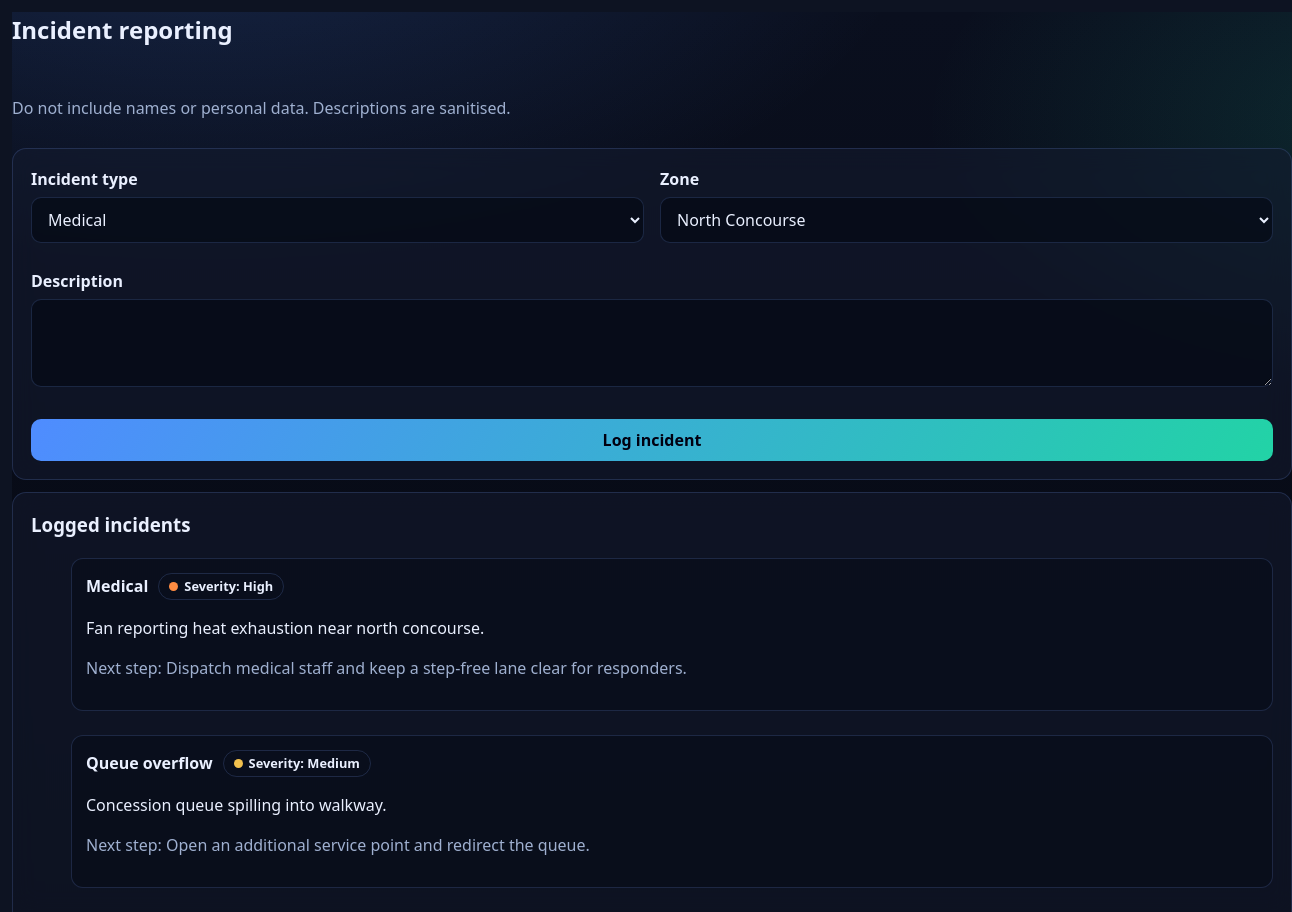
Incidents › logs a sanitised incident with severity and next step
The width and height of the screenshot is (1292, 912).
Select "Medical" in the dropdown labelled "Incident type" at [338, 220], box x1=31 y1=197 x2=644 y2=243
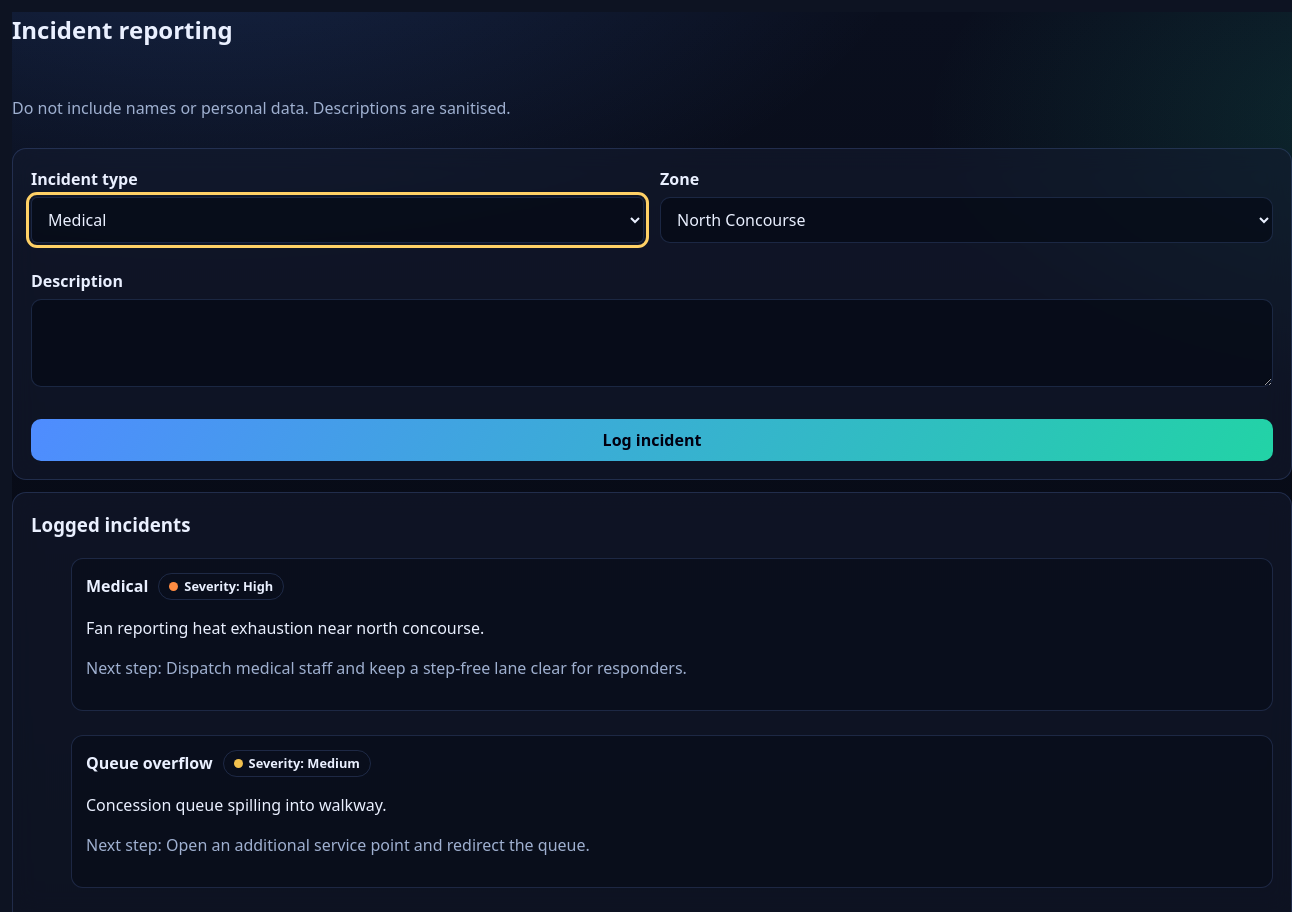
Type "Fan feeling faint <script>" into the text box labelled "Description" at [652, 343], box x1=31 y1=299 x2=1273 y2=387
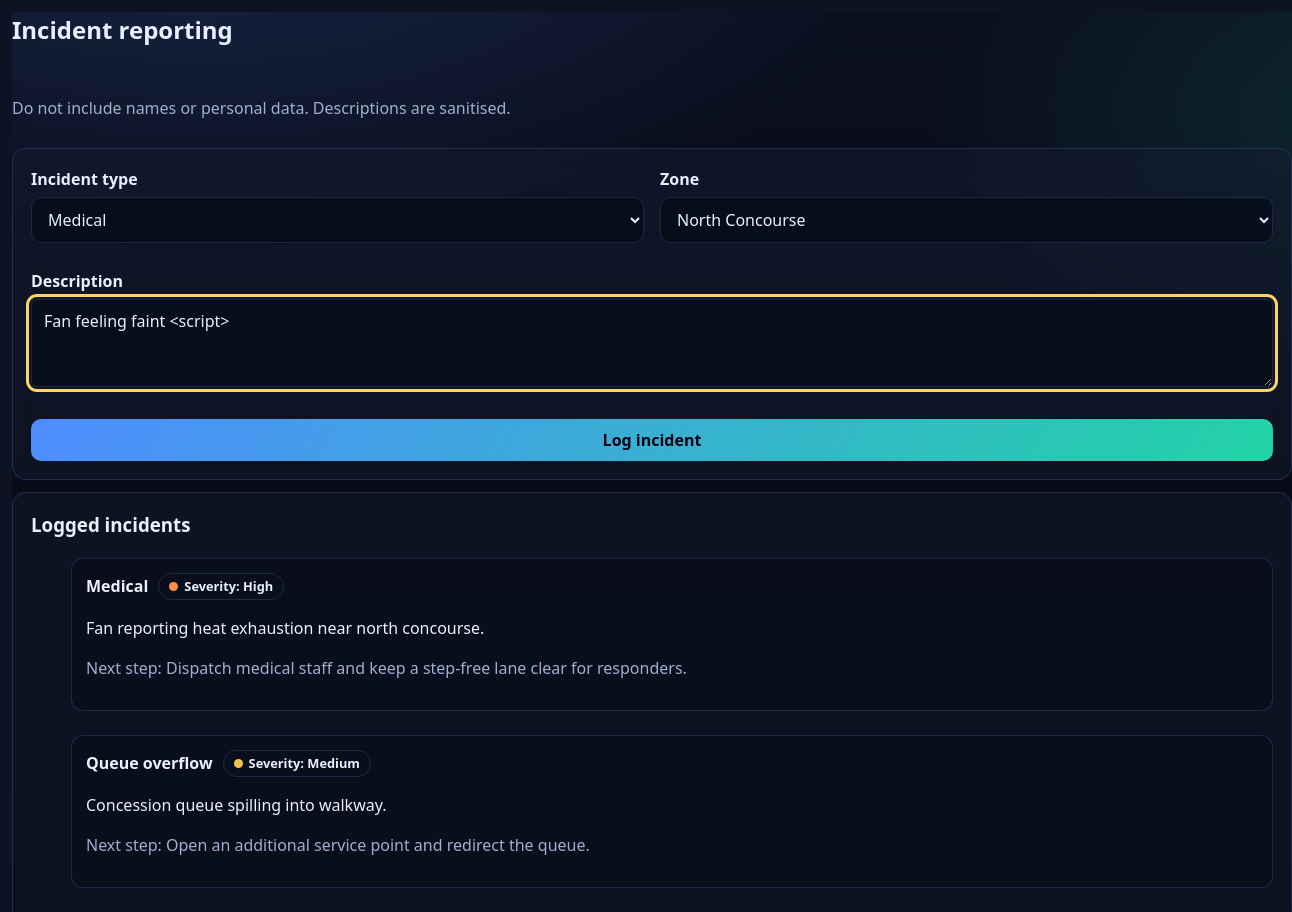
Click the button "Log incident" at [652, 440], box x1=31 y1=419 x2=1273 y2=461
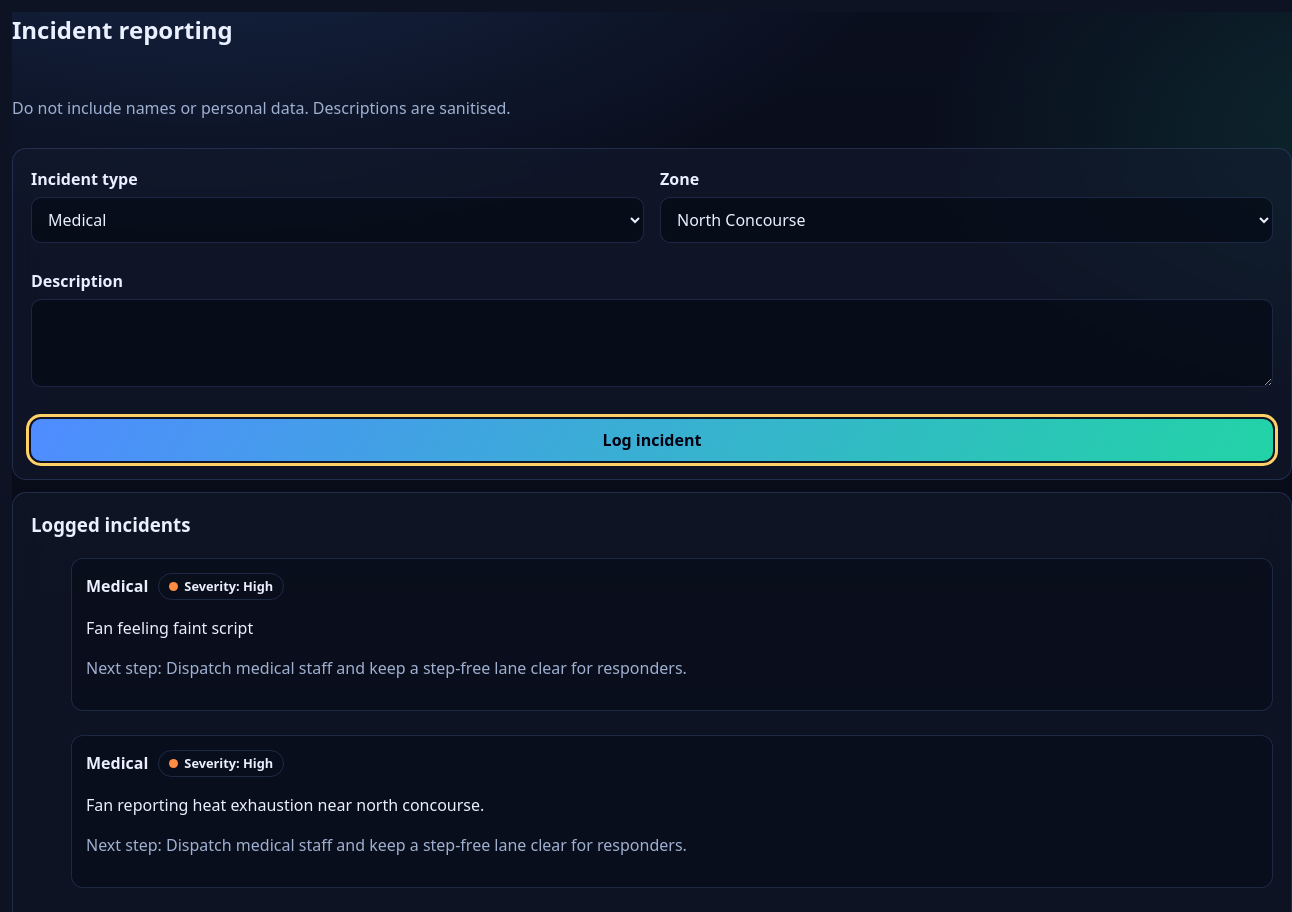
Check: the 1st text "Severity: High" is shown, box x1=184 y1=577 x2=273 y2=596
Check: the text "Fan feeling faint script" is shown, box x1=86 y1=617 x2=253 y2=639
